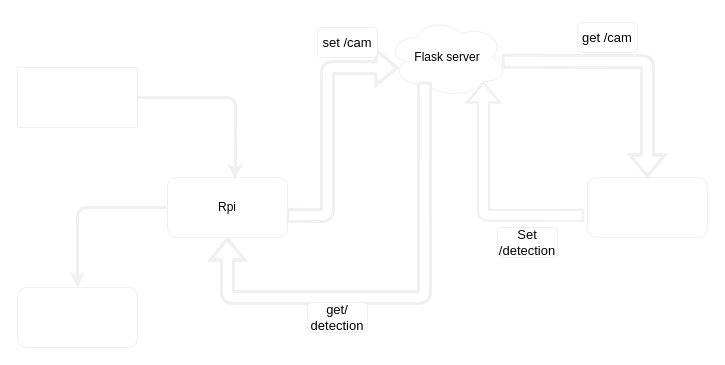
Some shapes in this 725 by 365 pixel diagram are drawn without their labels. Each missing label, with the centre of its shape:
"Camara" goes at pixel 77 97.
"Fuente" goes at pixel 77 317.
"Portatil" goes at pixel 647 207.
